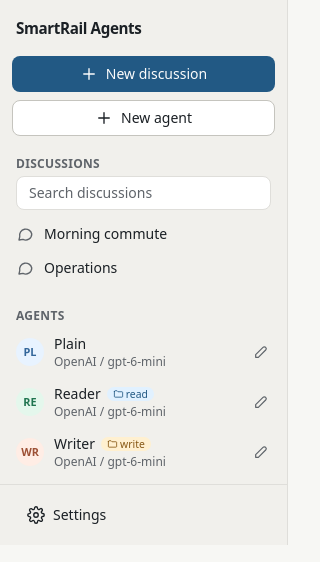
it: Sidebar discussion search › filters by title or topic regardless of case, while keeping agents available
Check: the button "Morning commute" is shown, box [8,218,279,250]
In the search field labelled "Search discussions": (144, 193) [16,176,271,210], type "mOrNiNg"
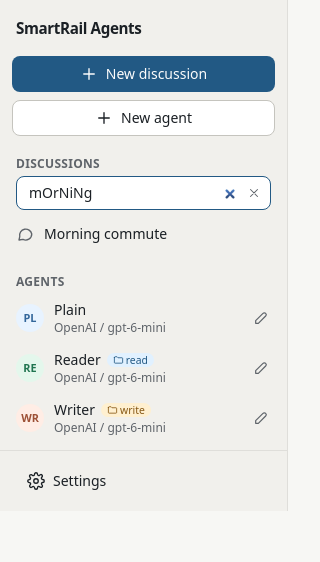
Click the button "Morning commute": (144, 234) [8,218,279,250]
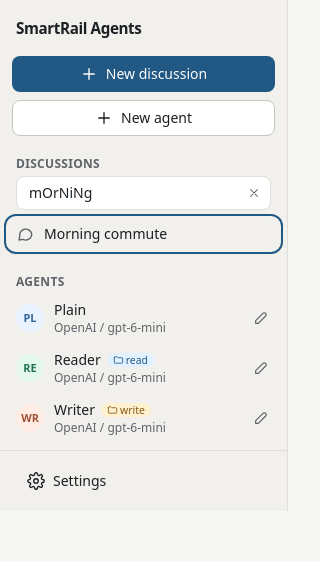
Check: the button "Operations" is not shown
Check: the button named "Chat with Plain" is shown, box [8,294,247,342]
Replace the text in the search field named "Search discussions" with "SIGNAL": (144, 193) [16,176,271,210]
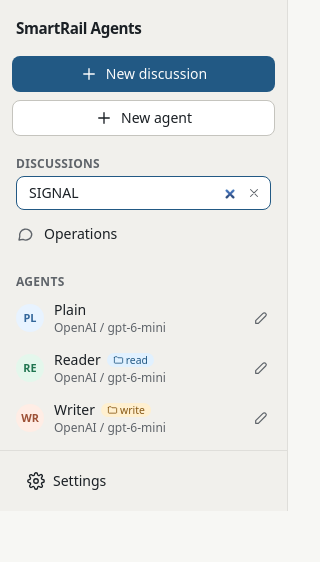
Check: the button "Operations" is shown, box [8,218,279,250]
Check: the button "Morning commute" is gone
